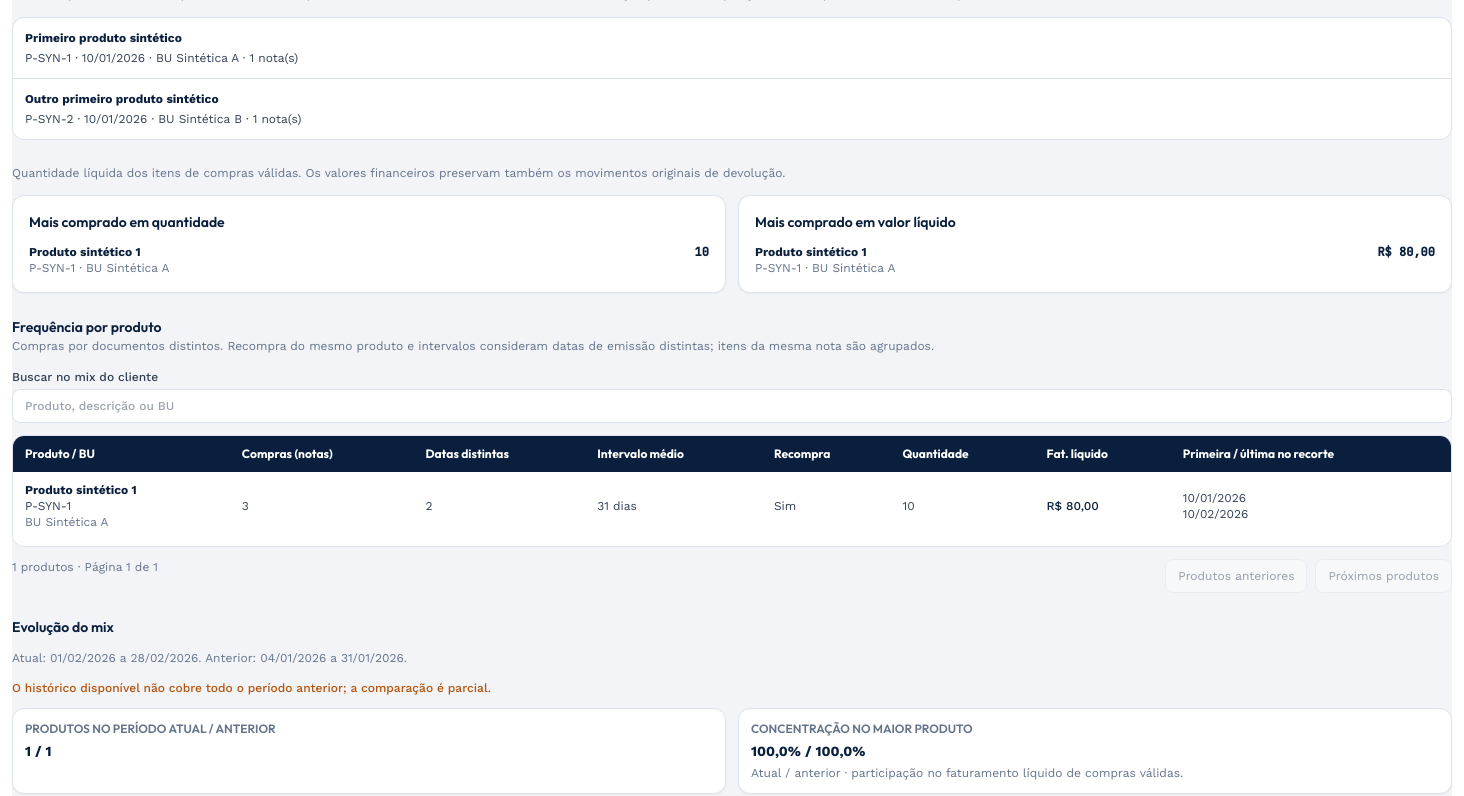
Scenario: Dossiê de comportamento de compra › busca no mix sem esconder os indicadores e permite limpar resultados vazios
(page scrolled)
In the field labelled "Buscar no mix do cliente": x=732, y=406 [12,388,1452,422], type "inexistente"
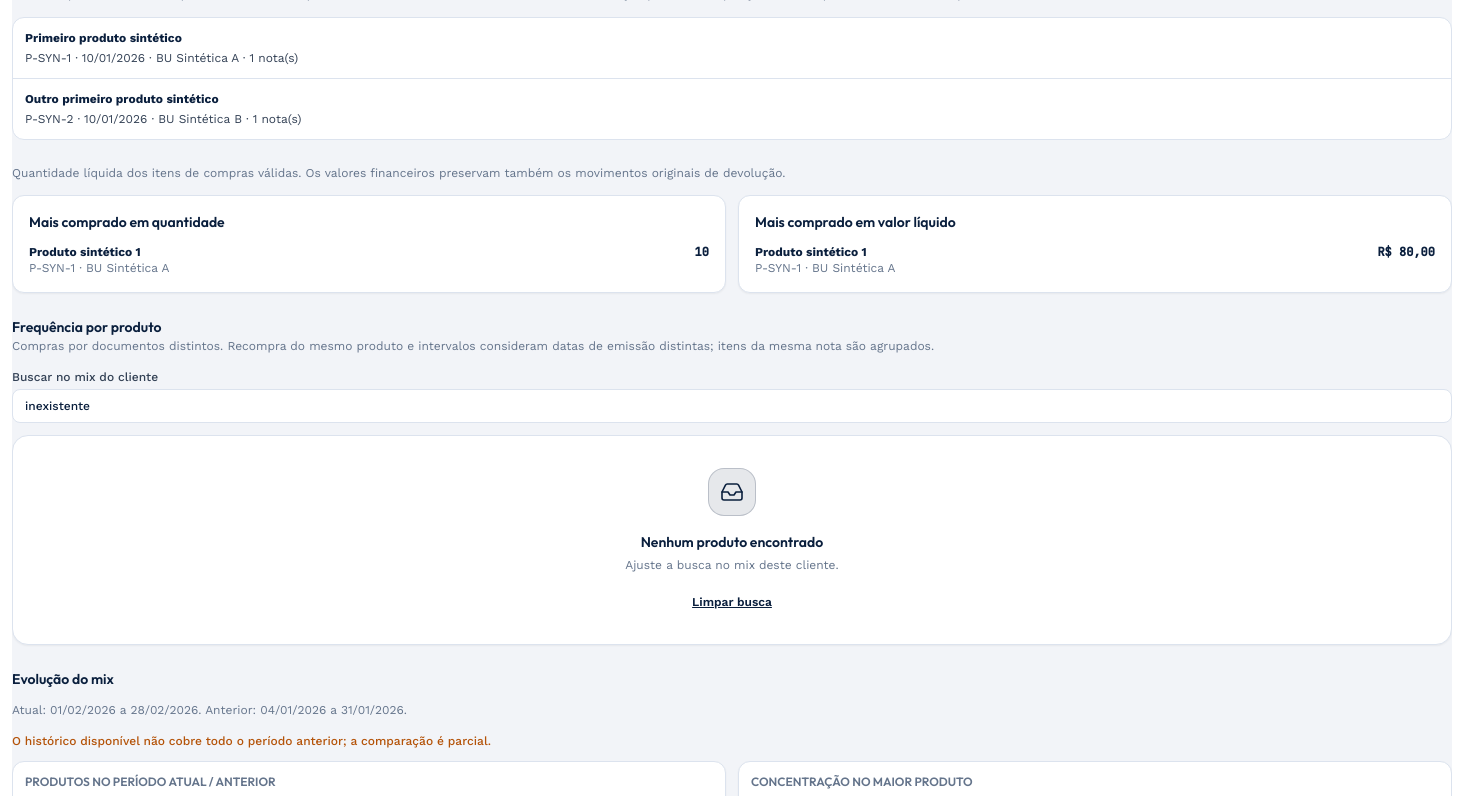
Expected: the heading "Nenhum produto encontrado" is shown, [641,532,823,552]
Click the button "Limpar busca": x=732, y=602 [692,594,772,610]
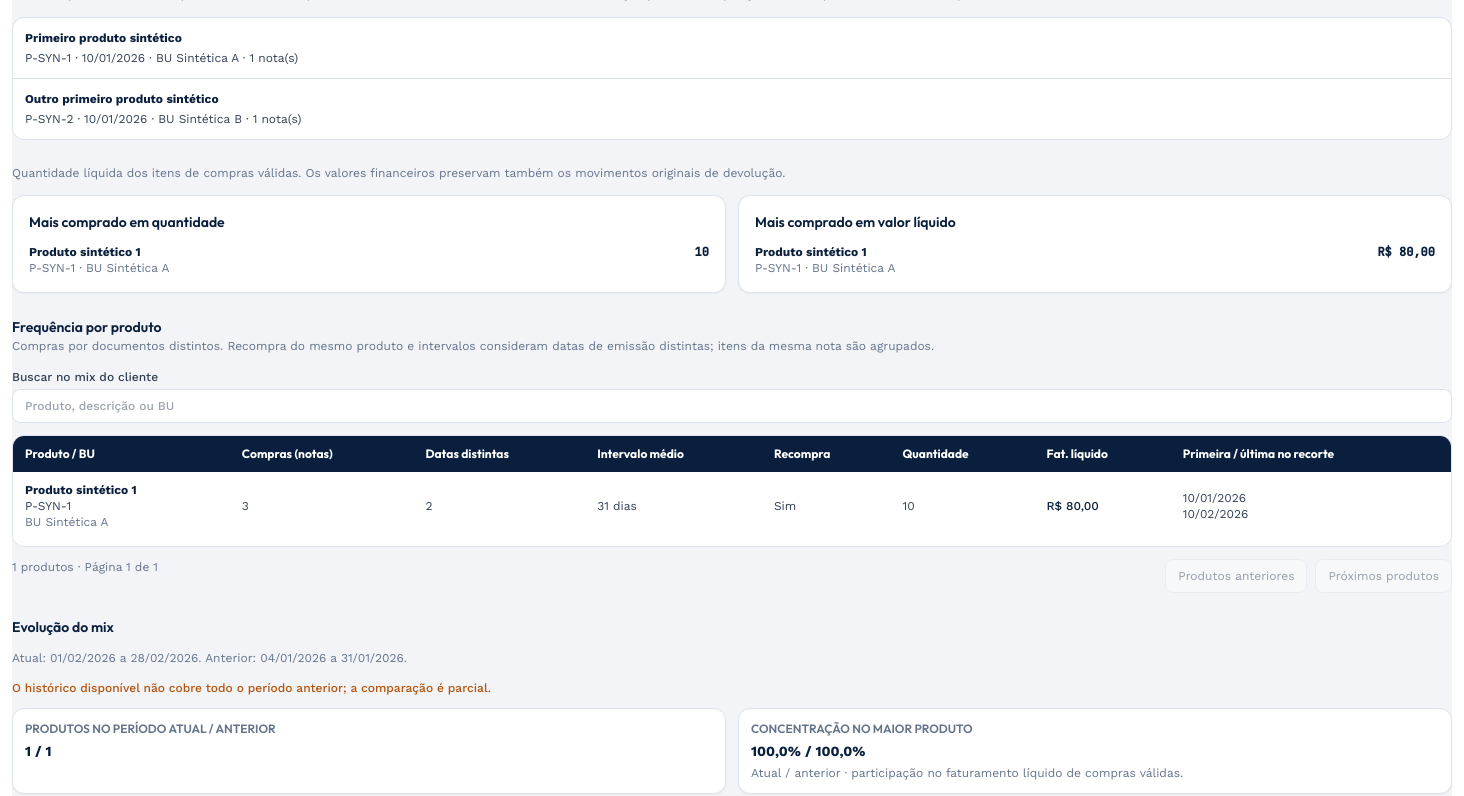
Expected: the column heading "Intervalo médio" is shown, [585,436,762,472]
